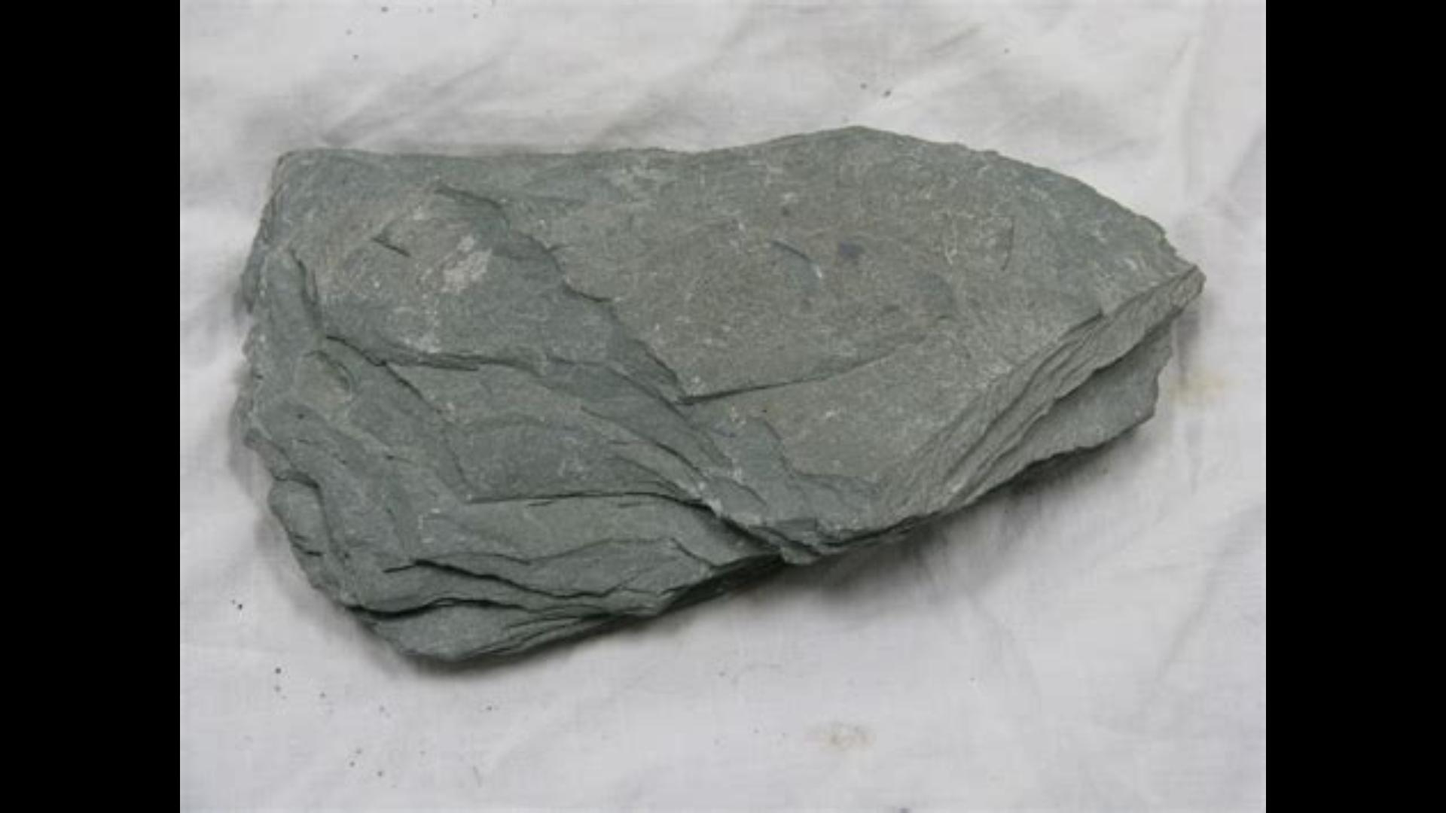rock: (240, 128, 1202, 657)
